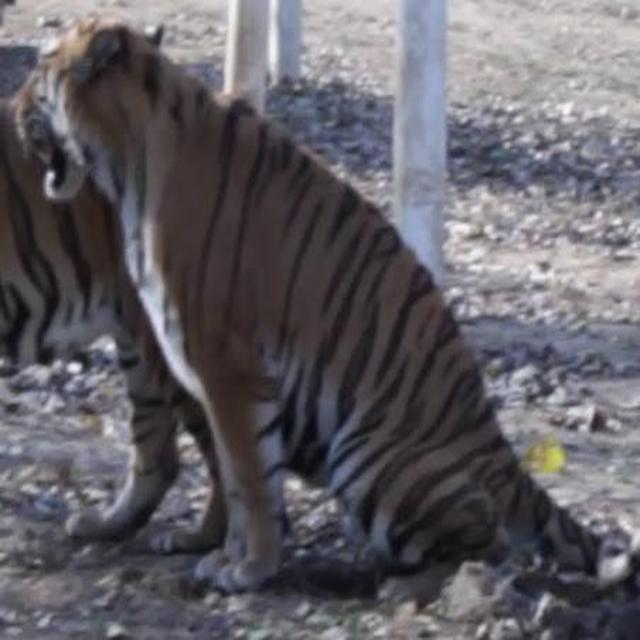tiger: (11, 12, 638, 601), (0, 9, 228, 554)
